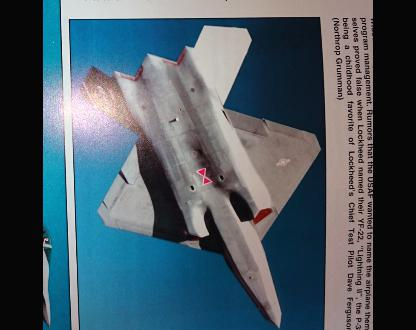US2: (80, 23, 322, 327)
